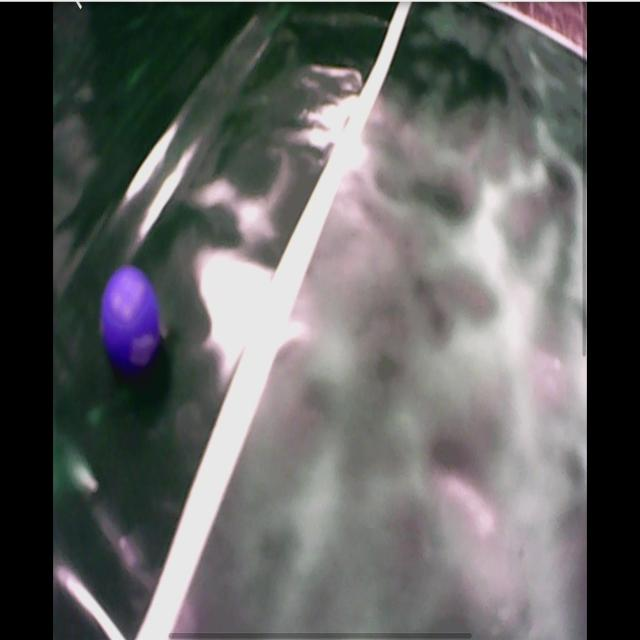ball: (103, 267, 160, 374)
